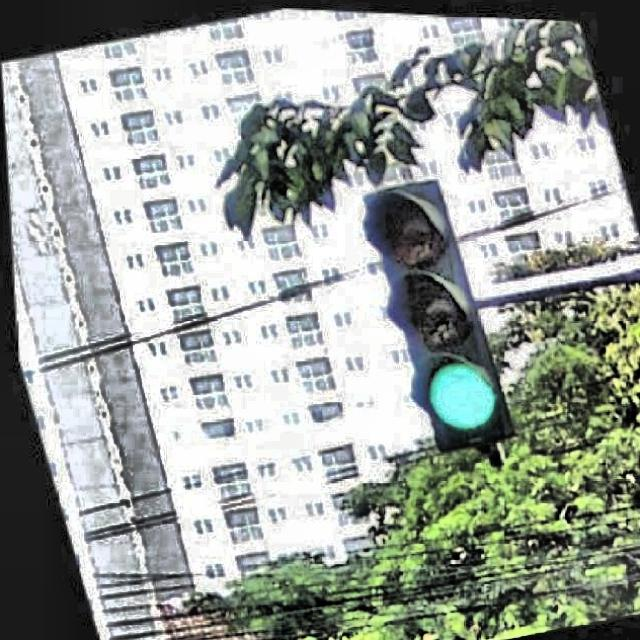green: (366, 176, 524, 443)
